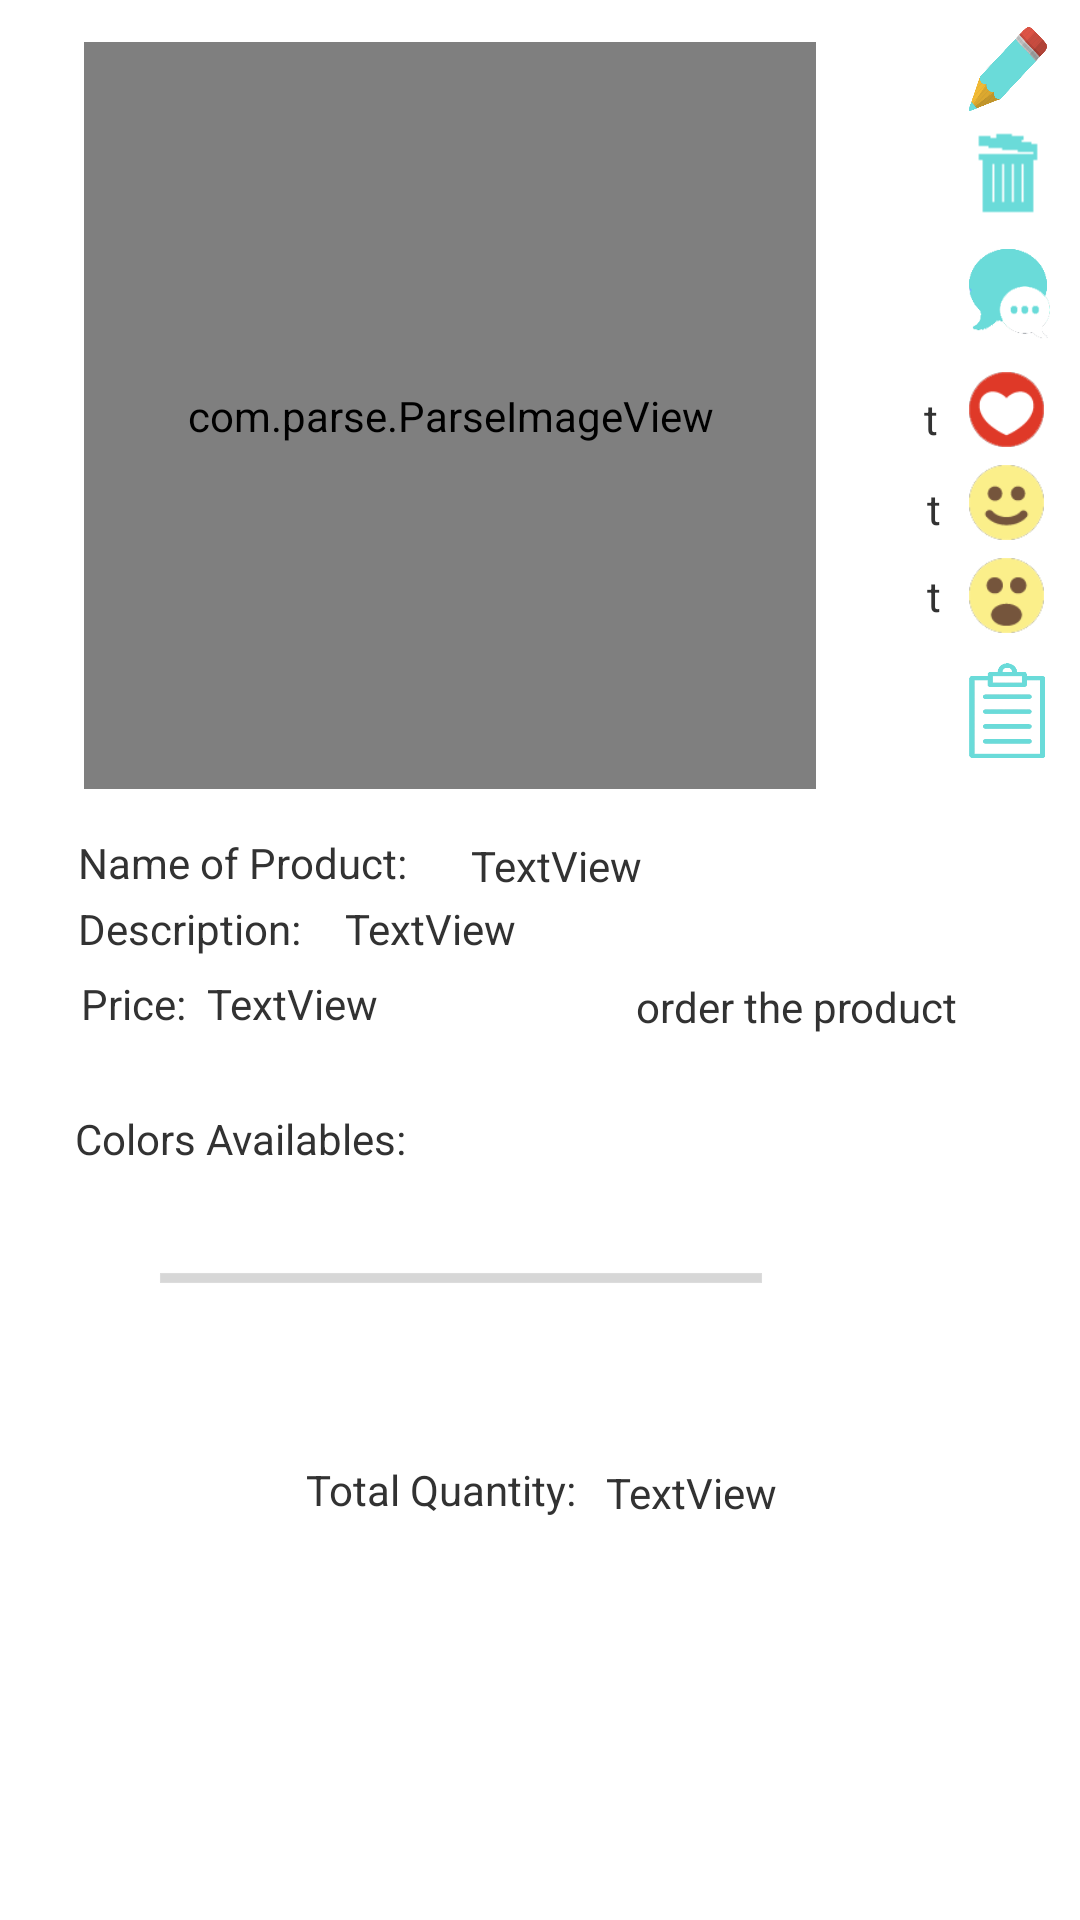

Icon click points for this 1080*1920 phone screenshot, format (x=x, y=y):
allshoporder: (x=1007, y=710)
comment: (x=1009, y=293)
delete: (x=1008, y=173)
rate: (x=1006, y=409), (x=1006, y=502), (x=1006, y=595)
